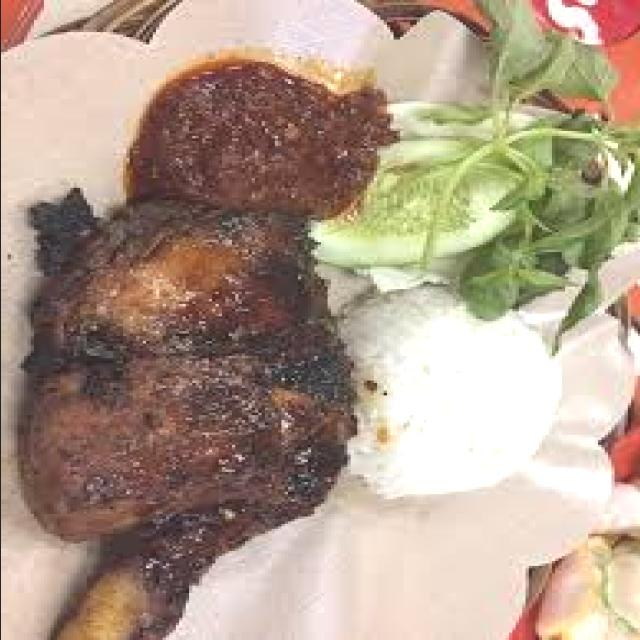ayam bakar: (20, 188, 356, 640)
nasi: (336, 284, 558, 499)
